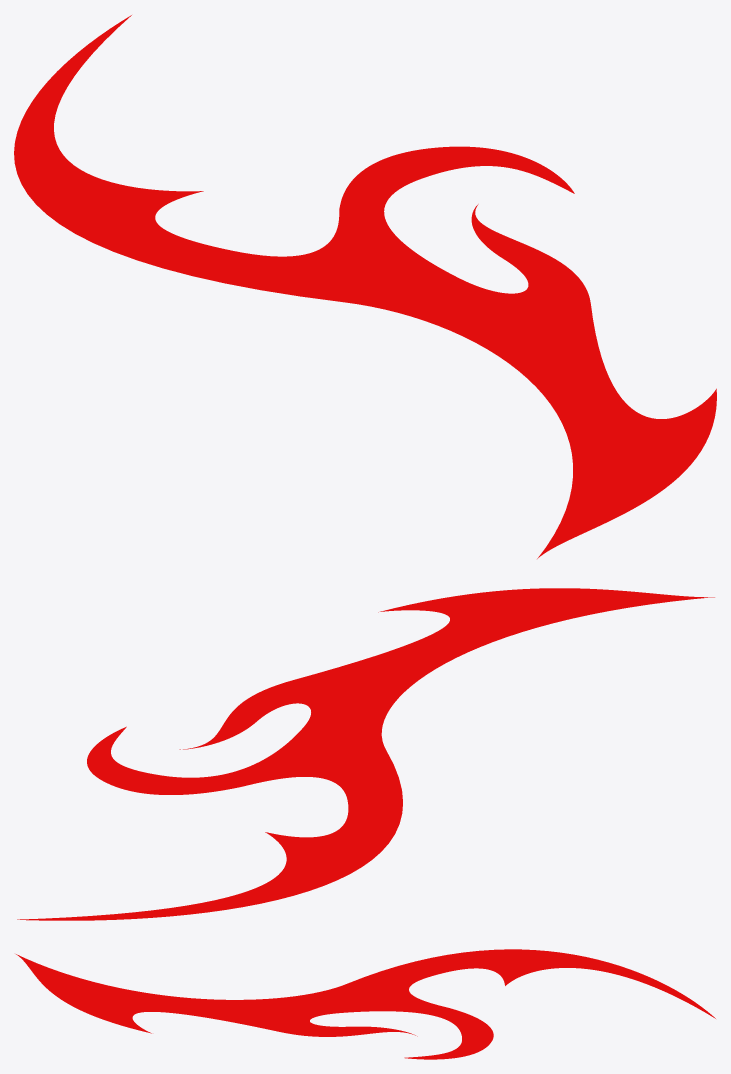
Rendered from Fgilism.glb.
The picture shows the model from 3 angles, top to bottom: view 1: azimuth 30°, elevation 25°; view 2: azimuth 150°, elevation 25°; view 3: azimuth 270°, elevation 25°; orthographic projection. The views are drawn at different scales.
Visible parts, largest first — view 1: Curve.001; view 2: Curve.001; view 3: Curve.001.
Part boxes in pixels (x1=…): Curve.001: x1=14, y1=15, x2=716, y2=558; Curve.001: x1=17, y1=588, x2=714, y2=920; Curve.001: x1=16, y1=949, x2=715, y2=1059.
Size of the model in its own units: 0.0448 by 0 by 0.1207.
